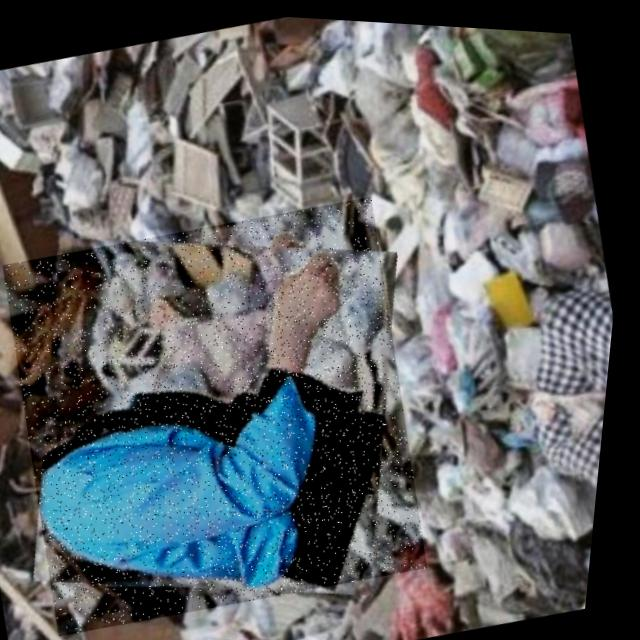Person in Rubble: (0, 173, 465, 640)
